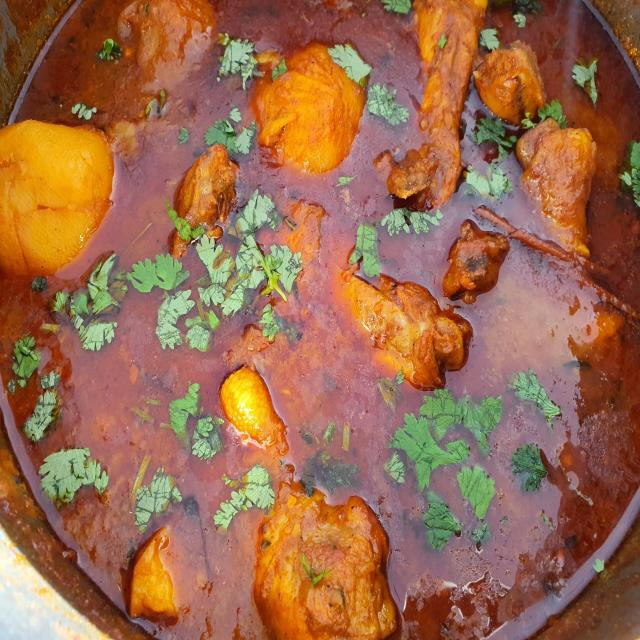chicken: (8, 16, 626, 625)
